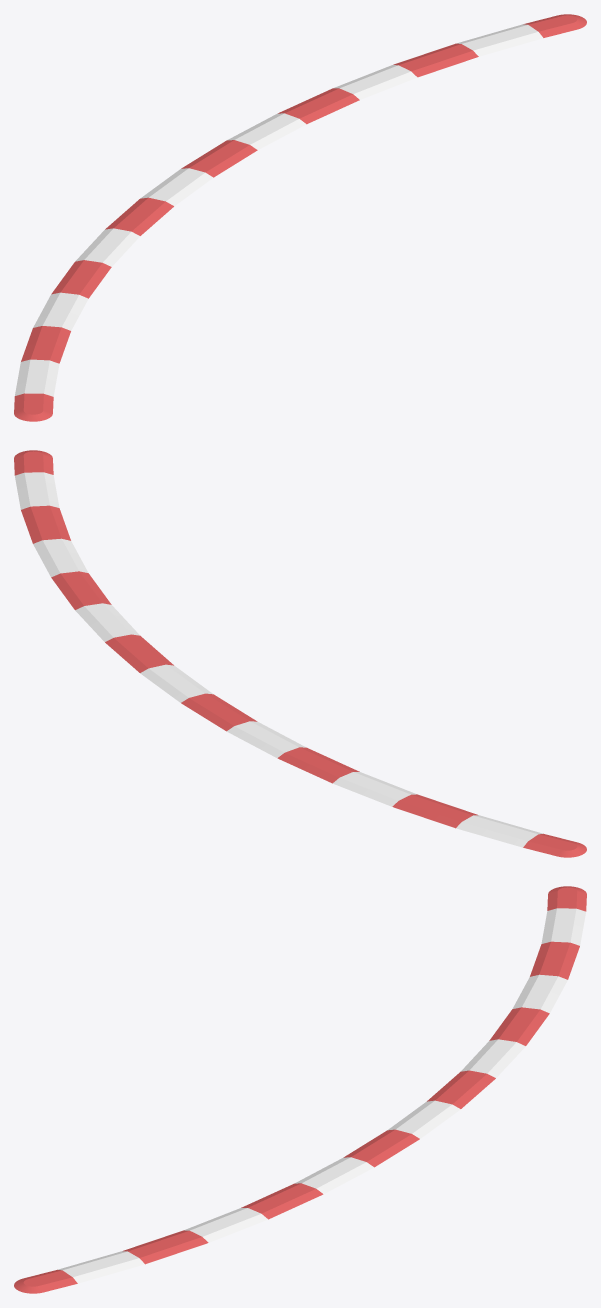
The model's file is RacelineCurveGentleOuter.glb.
3 views of the same model, one above another, from view 1: azimuth 90°, elevation 25°; view 2: azimuth 150°, elevation 25°; view 3: azimuth 270°, elevation 25° (orthographic).
Parts seen in each view (by area): view 1: object1; view 2: object1; view 3: object1.
Boxes of the visible parts, x1=… form: object1: x1=14, y1=14, x2=586, y2=421; object1: x1=14, y1=450, x2=586, y2=857; object1: x1=14, y1=886, x2=586, y2=1293.
Size of the model in its own units: 0.9799 by 0.0033 by 0.5825.
